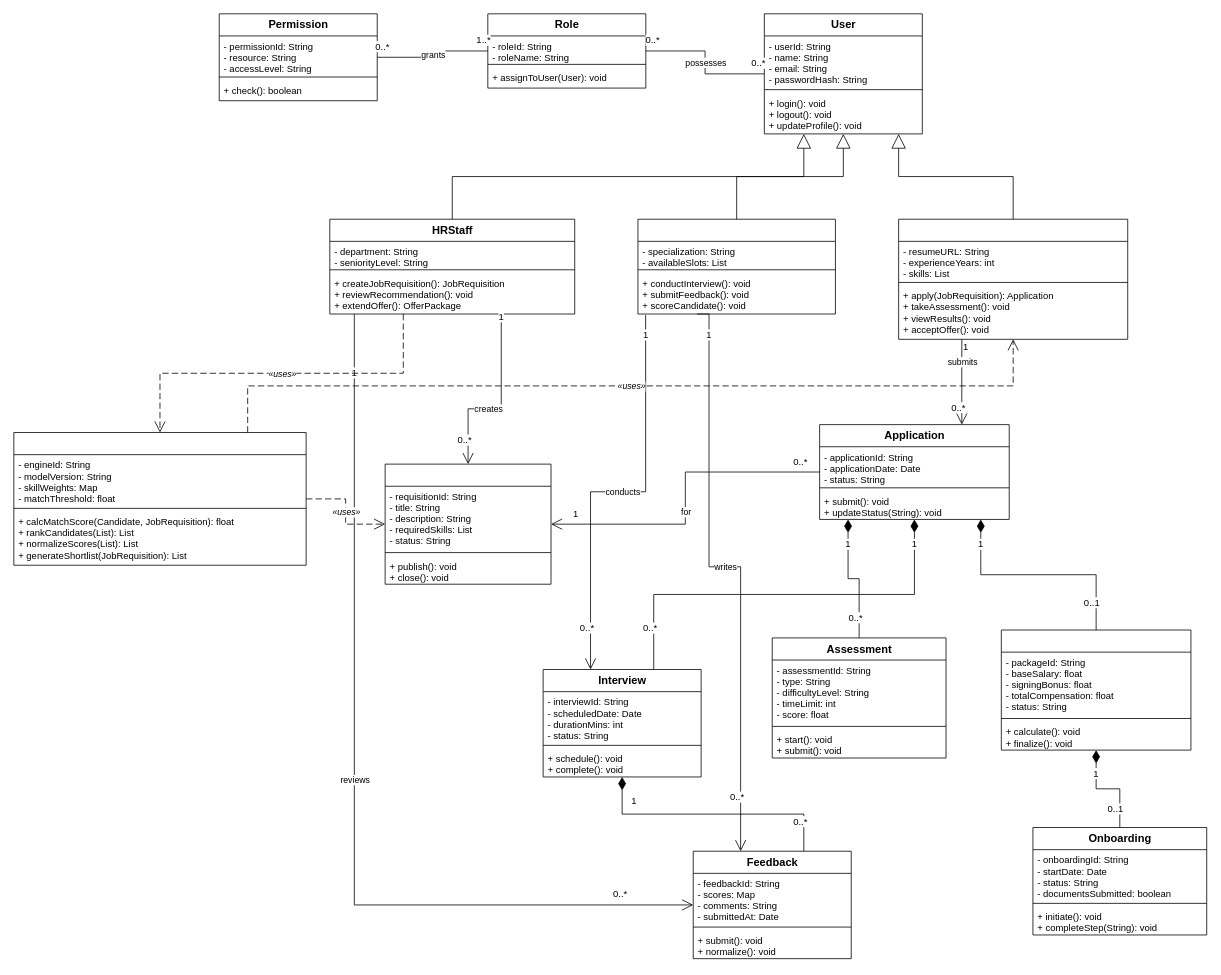
Some shapes in this 1221 by 975 pixel diagram are drawn without their labels. The shapes that lost their labels are listed below. From the top down, each one's box as (x1, y1, x2, y2) in pixels, then its label:
(637, 218, 835, 314): TechnicalInterviewer
(898, 218, 1128, 339): Candidate
(13, 432, 306, 565): AIScreeningEngine
(384, 463, 551, 584): JobRequisition
(1001, 629, 1191, 750): OfferPackage
